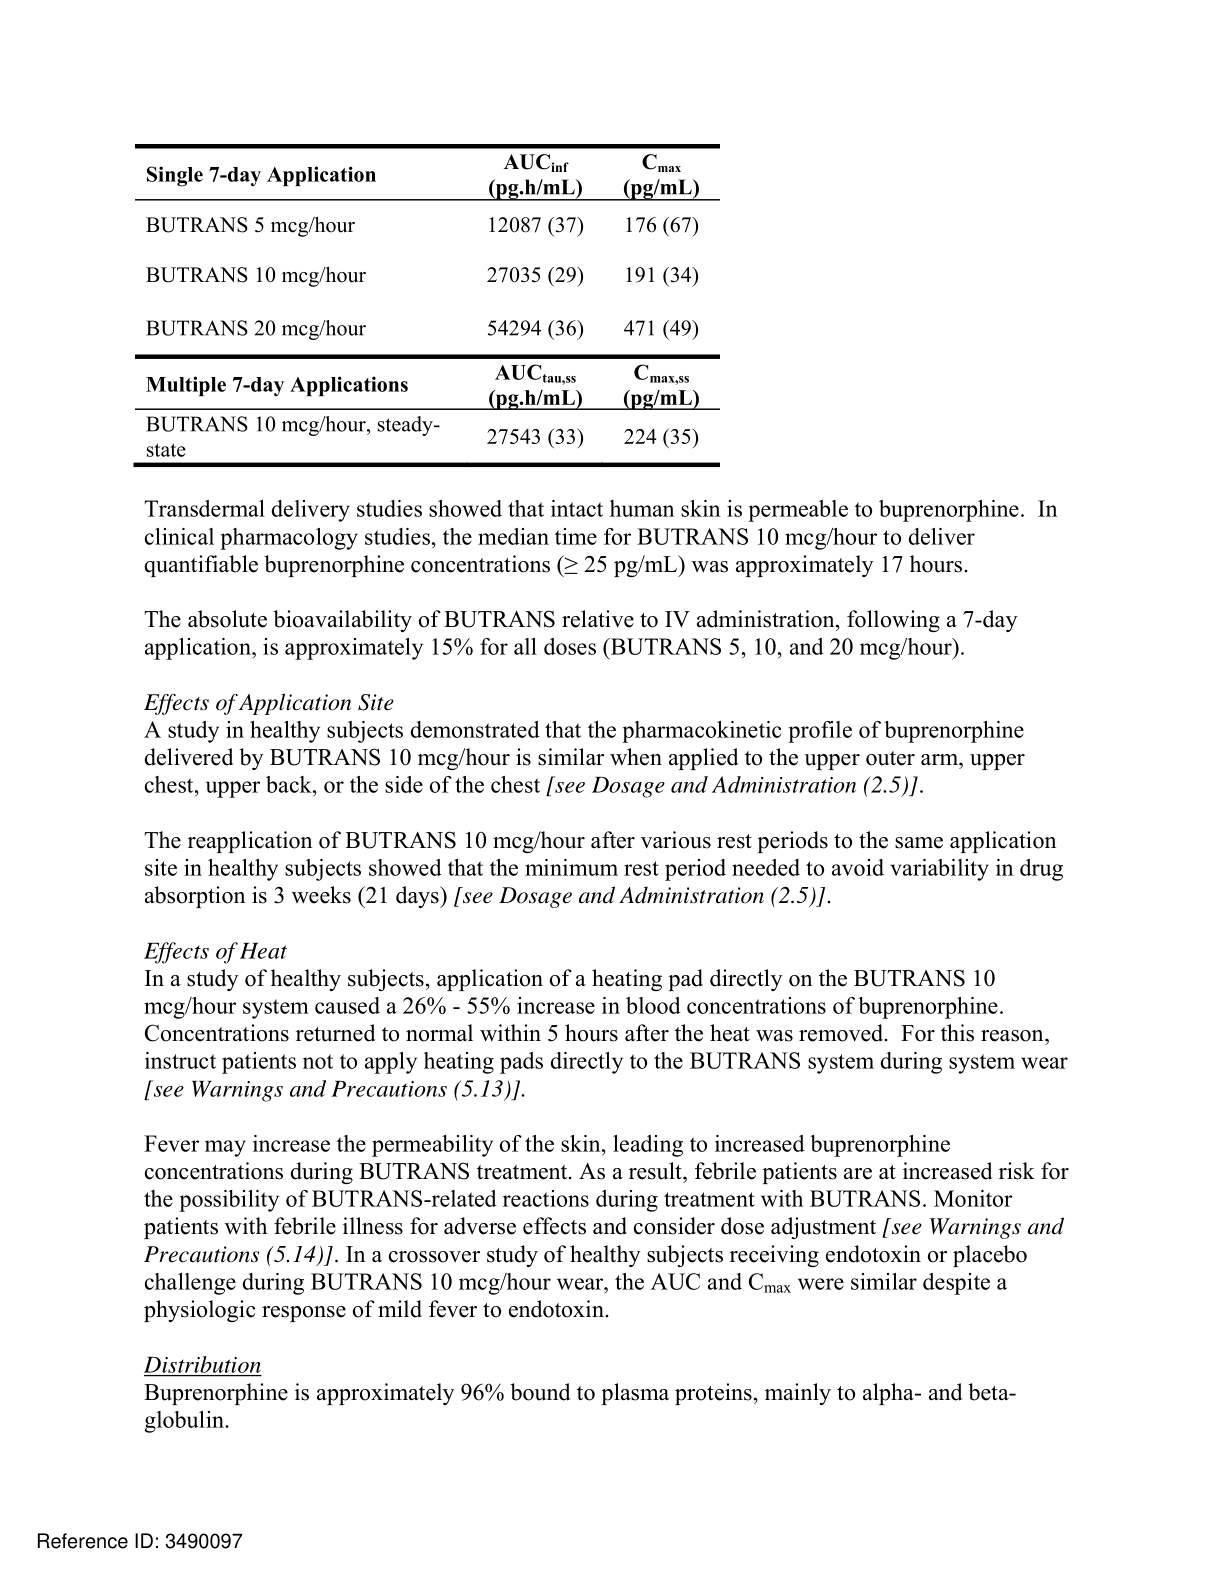partial_lined: (132, 144, 723, 468)
